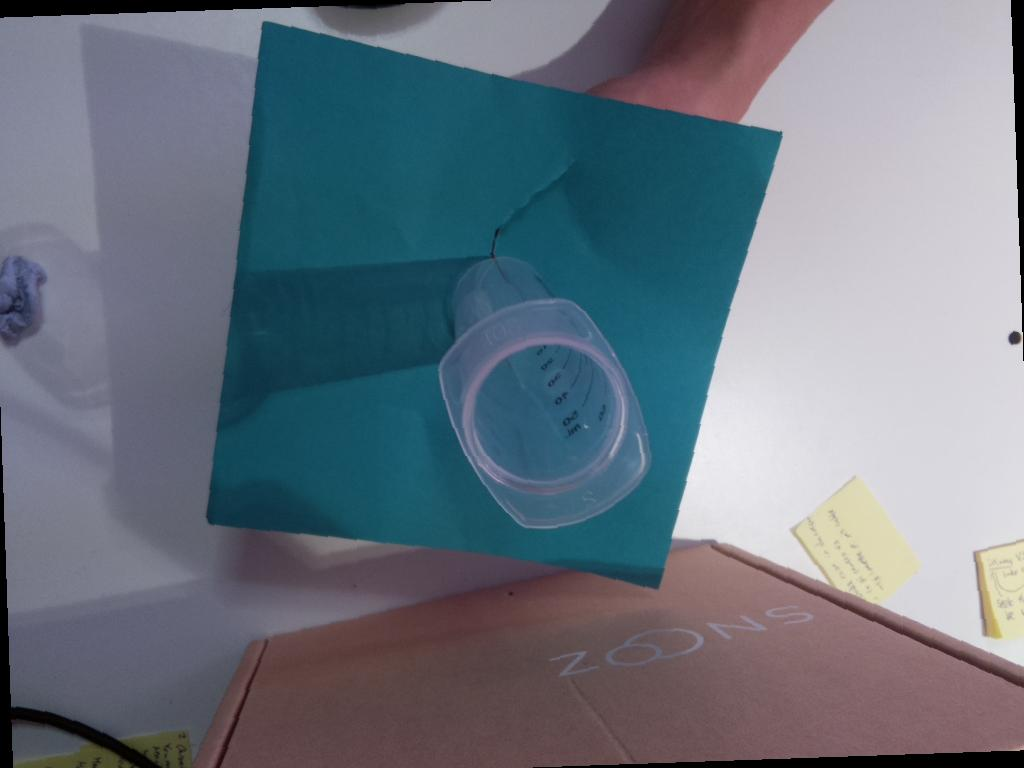clean: (437, 294, 654, 531)
